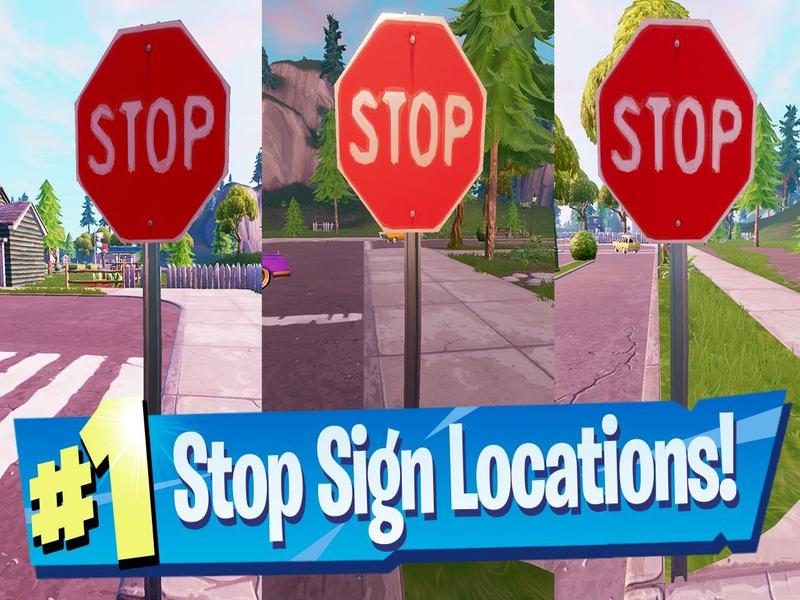stop: (65, 16, 232, 240), (595, 18, 758, 245), (333, 11, 486, 236)
